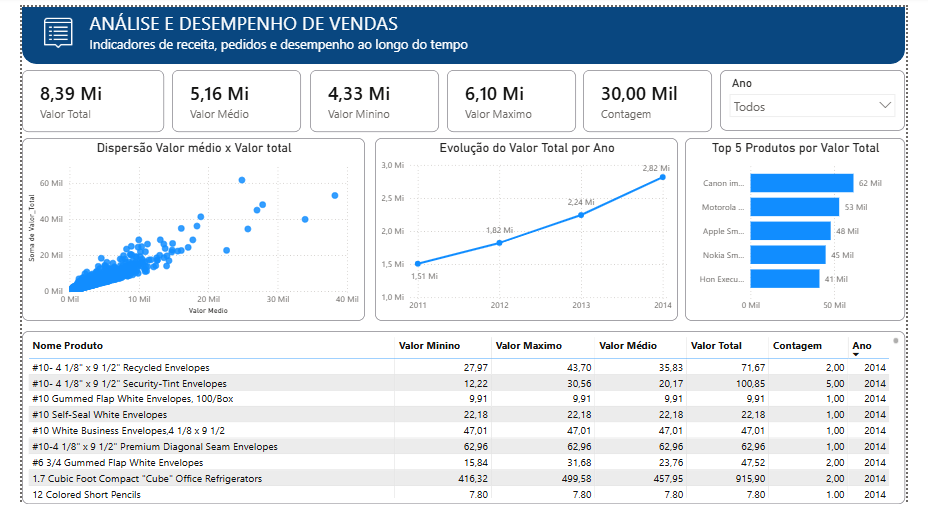

This screenshot's page, from the dashboard's own definition file:
{"tool":"powerbi","page":{"name":"Página 1","canvas":[1280,720],"ordinal":0},"visuals":[{"type":"clusteredBarChart","title":"Top 5 Produtos por Valor Total ","fields":{"Category":["ReportVendas.Nome_Produto"],"Y":["Sum(ReportVendas.Valor_Total)"]},"box":[961,190,319,265],"z":0},{"type":"lineChart","title":"Evolução do Valor Total por Ano","fields":{"Category":["ReportVendas.Ano"],"Y":["Sum(ReportVendas.Valor_Total)"]},"box":[511,190,439,265],"z":1000},{"type":"cardVisual","fields":{"Data":["Sum(ReportVendas.Valor_Total)"]},"box":[0.3,91.3,205.8,89.9],"z":2000},{"type":"cardVisual","fields":{"Data":["Sum(ReportVendas.Valor_Medio)"]},"box":[217.7,91.3,187,89.9],"z":3000},{"type":"cardVisual","fields":{"Data":["Sum(ReportVendas.Valor_Minino)"]},"box":[417.7,91.3,187,89.9],"z":4000},{"type":"cardVisual","fields":{"Data":["Sum(ReportVendas.Valor_Maximo)"]},"box":[616.2,91.3,187,89.9],"z":5000},{"type":"cardVisual","fields":{"Data":["Sum(ReportVendas.Contagem)"]},"box":[813.3,91.3,187,89.9],"z":6000},{"type":"tableEx","fields":{"Values":["ReportVendas.Nome_Produto","ReportVendas.Valor_Minino","ReportVendas.Valor_Maximo","ReportVendas.Valor_Medio","ReportVendas.Valor_Total","ReportVendas.Contagem","ReportVendas.Ano"]},"box":[0,469.6,1279.7,250.7],"z":7000},{"type":"scatterChart","title":"Dispersão Valor médio x Valor total","fields":{"X":["Sum(ReportVendas.Valor_Medio)"],"Y":["Sum(ReportVendas.Valor_Total)"],"Category":["ReportVendas.Nome_Produto"]},"box":[0,190,497,265],"z":8000},{"type":"slicer","fields":{"Values":["ReportVendas.Ano"]},"box":[1011.9,91.3,268.1,88.4],"z":8001},{"type":"shape","box":[0,0,1279.7,82.6],"z":8002},{"type":"textbox","box":[92.8,0,1187,97.1],"z":8003},{"type":"image","box":[13,11.6,79.7,49.3],"z":8004}]}

Visuals, with their boxes in screenshot pixels (x1, y1, x2, y2), scaled from the page's 1280x720 canvas onto the 928x516 screenshot:
"Top 5 Produtos por Valor Total " clusteredBarChart: 697,136,927,326
"Evolução do Valor Total por Ano" lineChart: 370,136,689,326
cardVisual - Sum(ReportVendas.Valor_Total): 0,65,149,130
cardVisual - Sum(ReportVendas.Valor_Medio): 158,65,293,130
cardVisual - Sum(ReportVendas.Valor_Minino): 303,65,438,130
cardVisual - Sum(ReportVendas.Valor_Maximo): 447,65,582,130
cardVisual - Sum(ReportVendas.Contagem): 590,65,725,130
tableEx - ReportVendas.Nome_Produto x ReportVendas.Valor_Minino: 0,337,927,515
"Dispersão Valor médio x Valor total" scatterChart: 0,136,360,326
slicer - ReportVendas.Ano: 734,65,927,129
shape: 0,0,927,59
textbox: 67,0,927,70
image: 9,8,67,44
